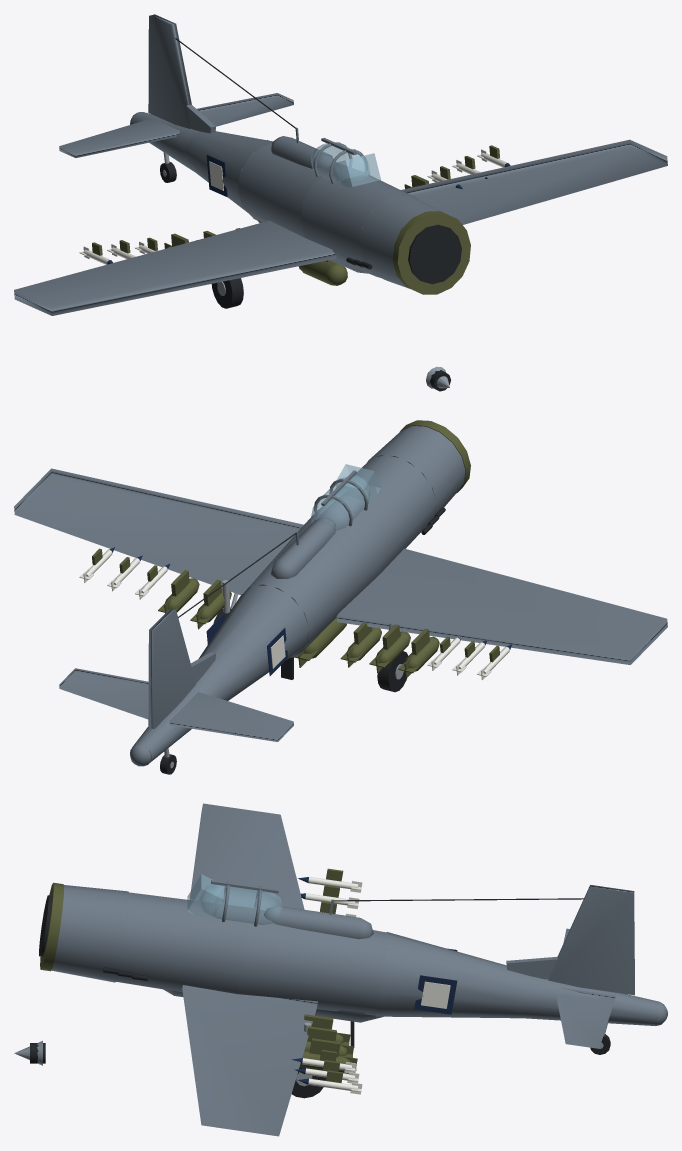
The model's file is a1-skyraider.glb.
3 views of the same model, one above another, from view 1: azimuth 30°, elevation 25°; view 2: azimuth 150°, elevation 25°; view 3: azimuth 270°, elevation 25° (orthographic). The views are drawn at different scales.
Visible parts, largest first — view 1: Mesh_WingRight, Mesh_WingLeft, Mesh_FuseFore, Mesh_FuseMid, Mesh_Fin, Mesh_Cowl, Mesh_FuseAft, Mesh_CowlLip, Mesh_EngineFace, Mesh_StabRight, Mesh_StabLeft, Mesh_Bubble (+5 smaller); view 2: Mesh_WingRight, Mesh_WingLeft, Mesh_FuseMid, Mesh_FuseAft, Mesh_FuseFore, Mesh_Fin, Mesh_Cowl, Mesh_StabRight, Mesh_StabLeft, Mesh_SpineFairing, Mesh_FuseTail, Mesh_Bubble (+4 smaller); view 3: Mesh_WingLeft, Mesh_FuseMid, Mesh_FuseFore, Mesh_WingRight, Mesh_FuseAft, Mesh_Fin, Mesh_Cowl, Mesh_FuseTail, Mesh_StabLeft, Mesh_Bubble, Mesh_SpineFairing, Mesh_Windscreen (+5 smaller).
Boxes of the visible parts, x1,y1,x2,y2 form: Mesh_WingRight: [14, 220, 336, 315]; Mesh_WingLeft: [401, 139, 667, 224]; Mesh_FuseFore: [300, 168, 419, 277]; Mesh_FuseMid: [238, 144, 345, 237]; Mesh_Fin: [148, 14, 191, 128]; Mesh_Cowl: [359, 195, 441, 288]; Mesh_FuseAft: [184, 131, 272, 212]; Mesh_CowlLip: [392, 211, 470, 294]; Mesh_EngineFace: [408, 224, 461, 284]; Mesh_StabRight: [59, 118, 180, 157]; Mesh_StabLeft: [197, 93, 293, 126]; Mesh_Bubble: [311, 143, 369, 182]; Mesh_WingRight: [336, 548, 667, 664]; Mesh_WingLeft: [14, 468, 303, 594]; Mesh_FuseMid: [244, 511, 380, 653]; Mesh_FuseAft: [198, 585, 309, 700]; Mesh_FuseFore: [314, 455, 436, 574]; Mesh_Fin: [148, 608, 196, 728]; Mesh_Cowl: [367, 426, 465, 526]; Mesh_StabRight: [169, 692, 293, 741]; Mesh_StabLeft: [59, 668, 148, 719]; Mesh_SpineFairing: [270, 517, 335, 578]; Mesh_FuseTail: [132, 674, 223, 762]; Mesh_Bubble: [311, 476, 369, 530]; Mesh_WingLeft: [182, 985, 317, 1136]; Mesh_FuseMid: [237, 907, 387, 1015]; Mesh_FuseFore: [116, 892, 248, 993]; Mesh_WingRight: [190, 803, 304, 910]; Mesh_FuseAft: [375, 932, 529, 1018]; Mesh_Fin: [548, 885, 634, 995]; Mesh_Cowl: [51, 885, 129, 982]; Mesh_FuseTail: [523, 976, 657, 1025]; Mesh_StabLeft: [556, 987, 615, 1048]; Mesh_Bubble: [199, 884, 282, 924]; Mesh_SpineFairing: [264, 906, 373, 939]; Mesh_Windscreen: [187, 874, 224, 917].
Bounding box in the file's own units: 14.1 × 3.87 × 12.47.
